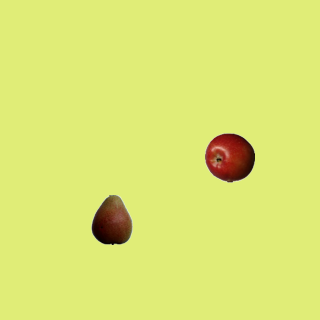Apple Braeburn: (204, 132, 254, 182)
Pear Forelle: (86, 194, 136, 244)
